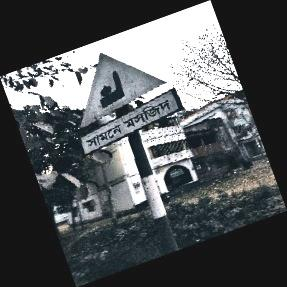Mosque in front: (78, 53, 183, 156)
